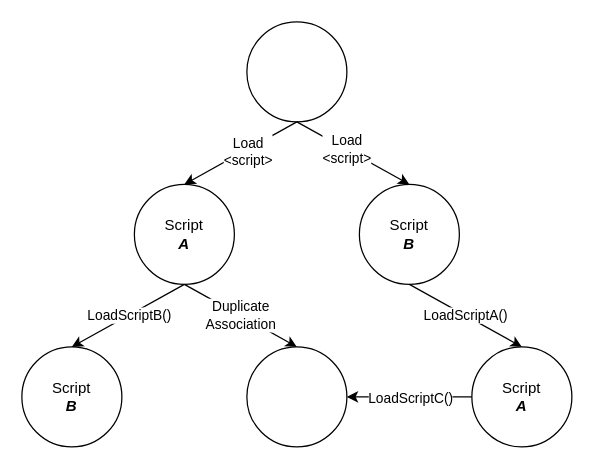
Image size: 594x469. Some labels were removed from this diagram. The shapes that lost their labels are listed below. From the top down, each one's box as (x1, y1, x2, y2) in pixels, then its label:
(246, 21, 347, 122): Visited Page Z
(246, 346, 347, 447): Script C
